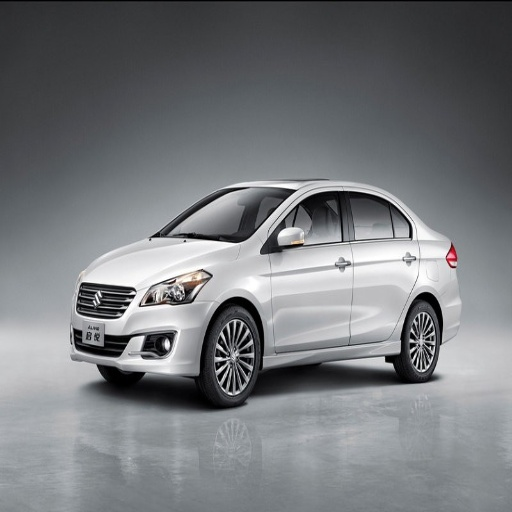back_left_door: (345, 189, 418, 340)
front_bumper: (68, 278, 214, 376)
front_glass: (154, 188, 290, 242)
front_left_door: (267, 189, 353, 351)
